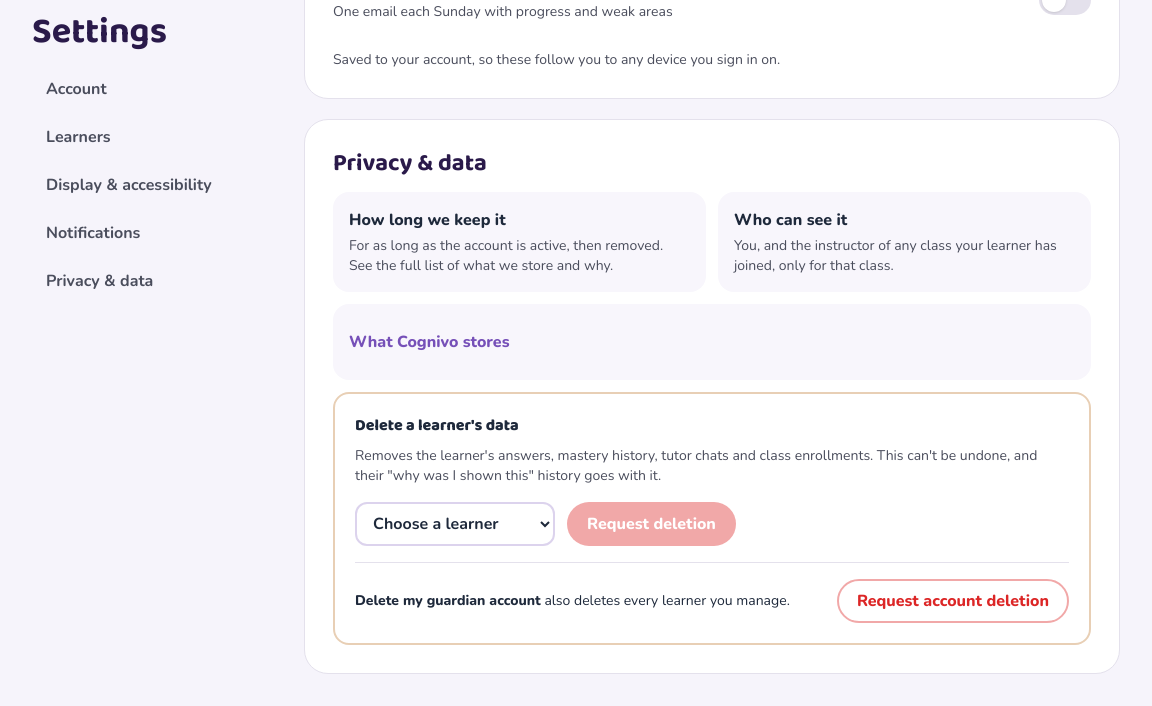
Scenario: GuardianSettingsPage › submits a learner-deletion request and shows its real pending status
(page scrolled)
Select "Eli" in the dropdown showing "Choose a learner". click: {"x": 455, "y": 524}
box: [355,502,555,546]
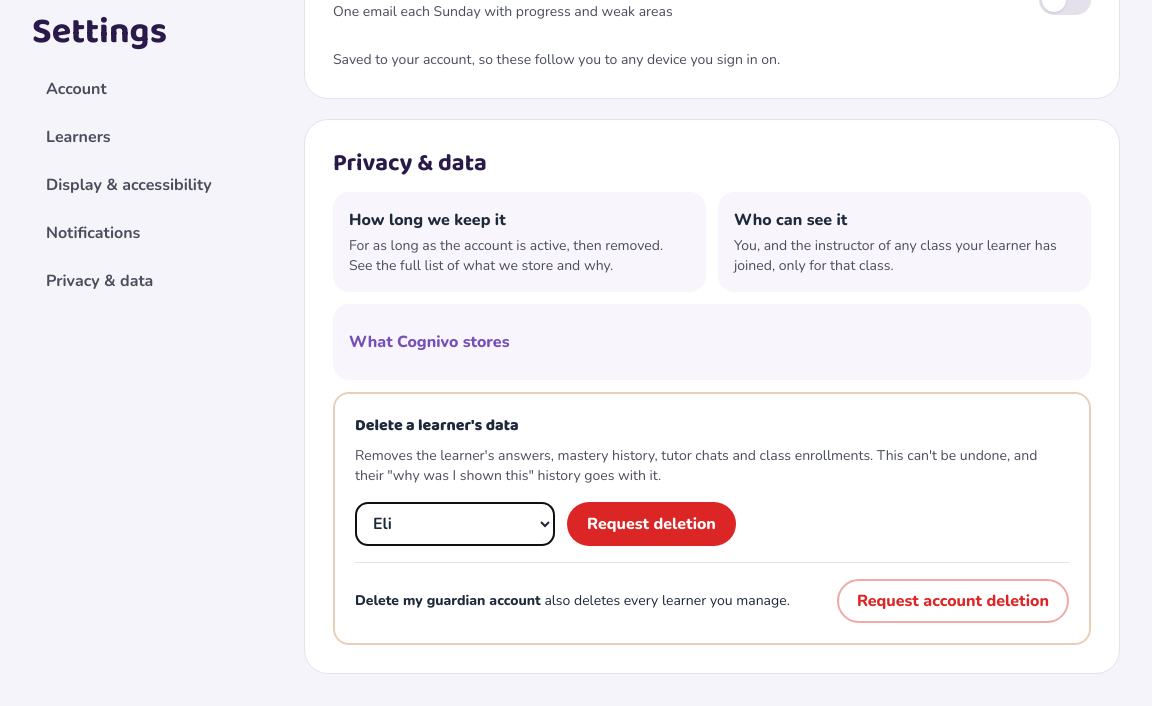
Click the button "Request deletion". click: {"x": 651, "y": 524}
box: [567,502,736,546]
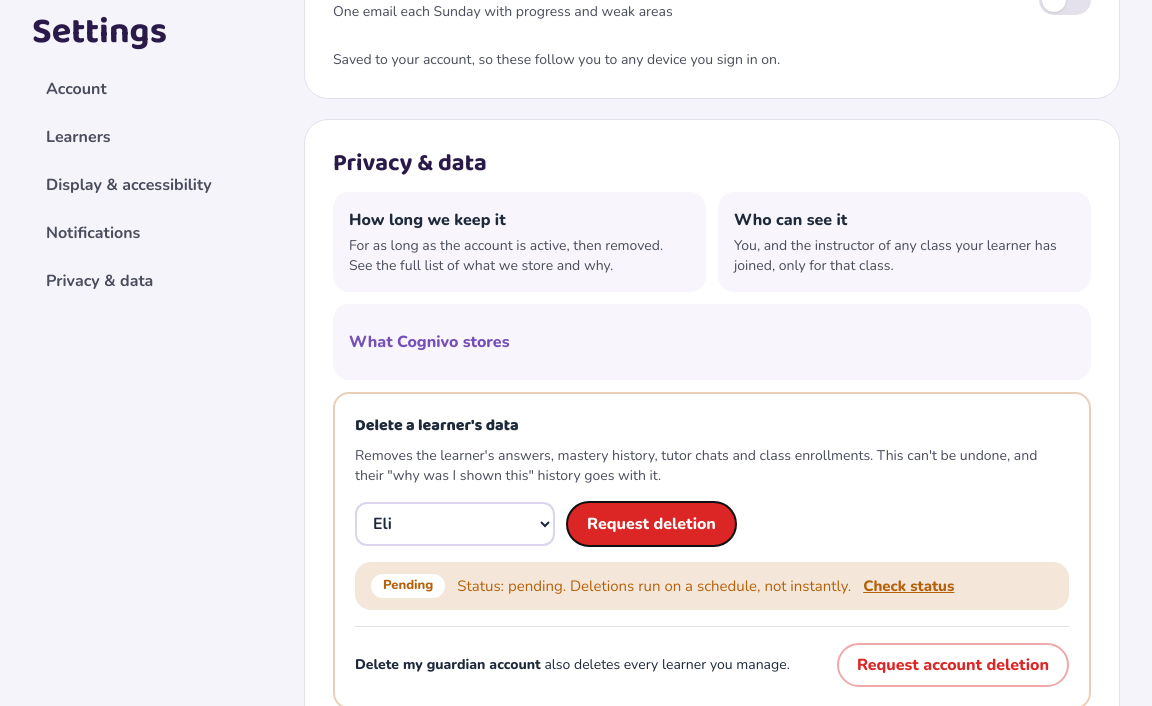
Expected: the text "Status: pending. Deletions run on a schedule, not instantly." is shown, [457,574,851,597]
